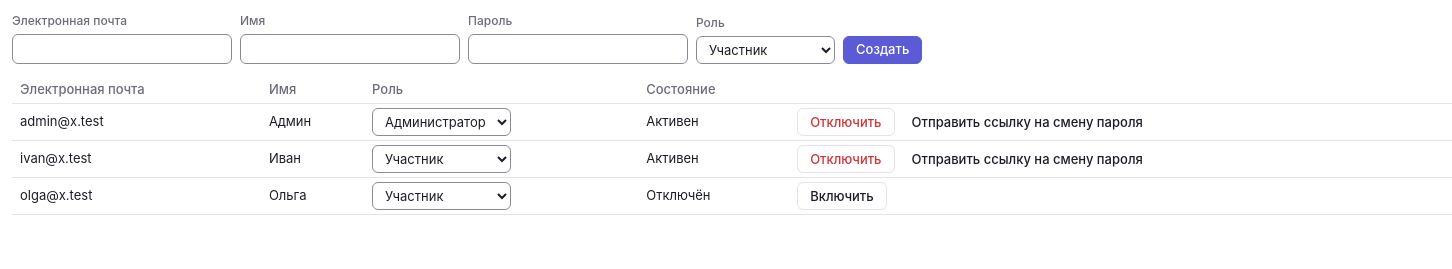
it: usersTab_create_addsUserWithPasswordAndRoleAndRefreshesList
The width and height of the screenshot is (1452, 269).
Check: the row "ivan@x.test" is shown, box [12,140,1451,178]
Step 1. Type "new@x.test" into the field labelled "Электронная почта" → (122, 49), box [12,34,232,64]
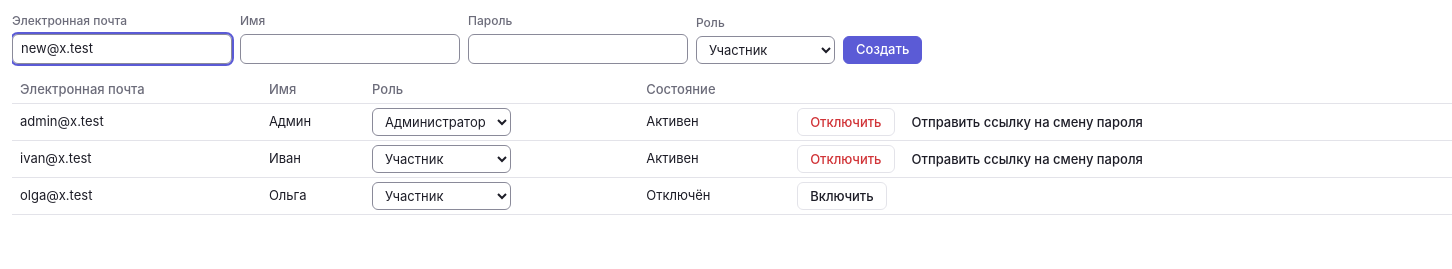
Step 2. Type "Новый" into the field labelled "Имя" → (350, 49), box [240,34,460,64]
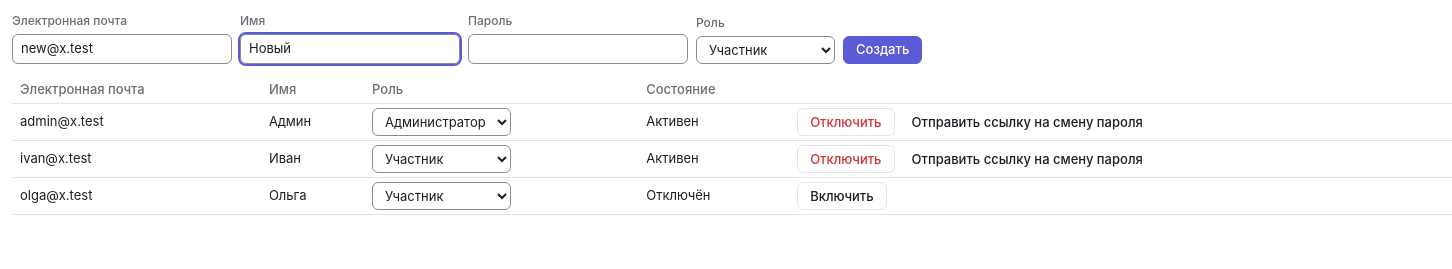
Step 3. Type "password-1234" into the password field labelled "Пароль" → (578, 49), box [468,34,688,64]
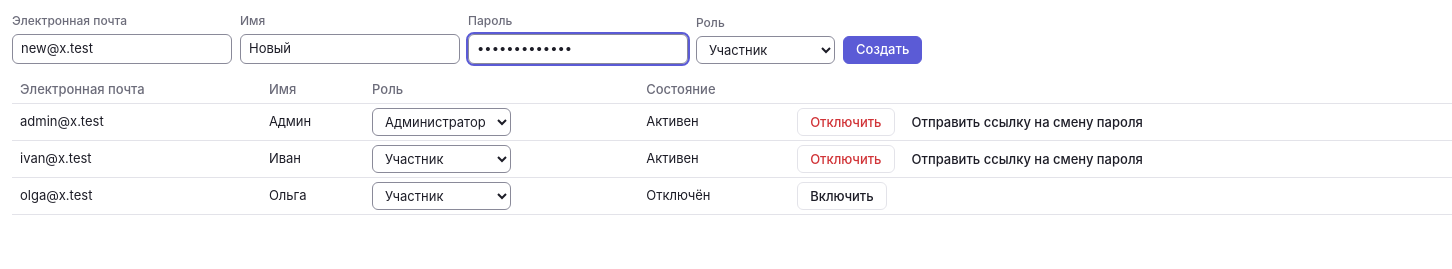
Step 4. Select "Администратор" in the dropdown labelled "Роль" → (766, 50), box [696,36,835,64]
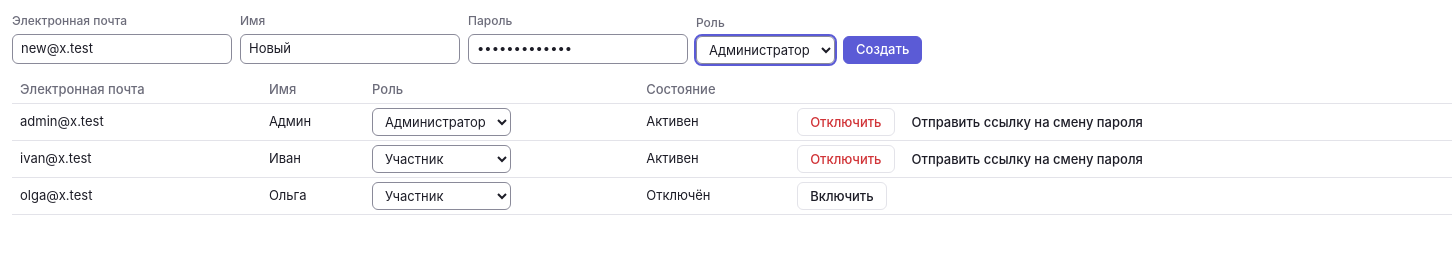
Step 5. Click the button "Создать" → (883, 50), box [843,36,922,64]
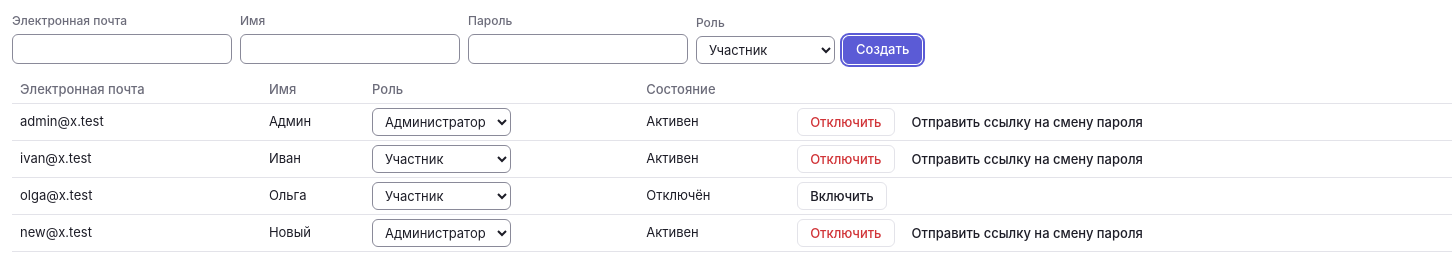
Check: the row "new@x.test" is shown, box [12,214,1451,252]
Check: the password field labelled "Пароль" is empty, box [468,34,688,64]
